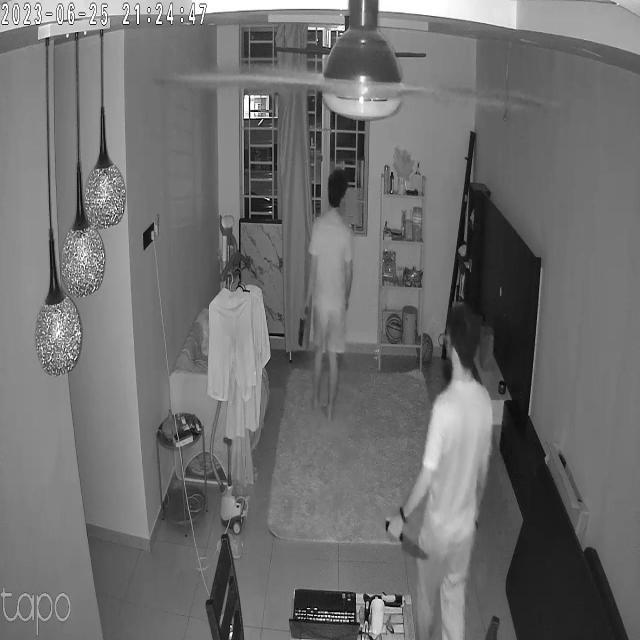Knife: (380, 516, 435, 562)
